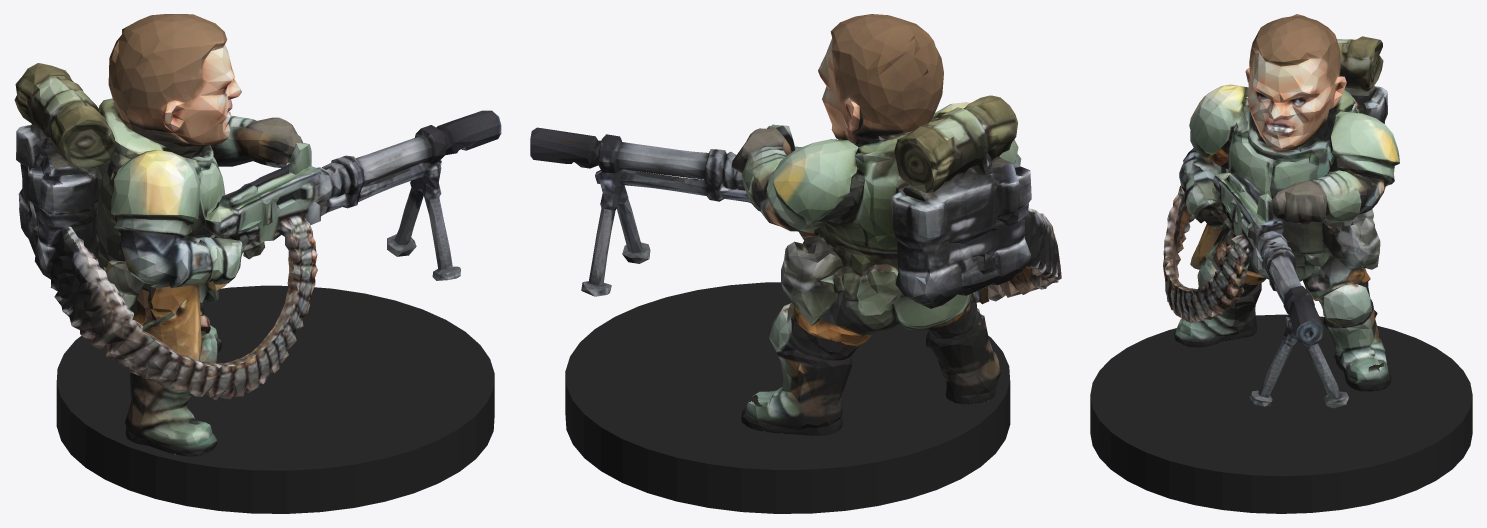
The model's file is ss-heavy-gunner-heavy-bolter.glb.
The picture shows the model from 3 angles, left to right: view 1: azimuth 30°, elevation 25°; view 2: azimuth 150°, elevation 25°; view 3: azimuth 270°, elevation 25°; orthographic projection. The views are drawn at different scales.
Parts seen in each view (by area): view 1: figure, base; view 2: figure, base; view 3: figure, base.
Boxes of the visible parts, x1,y1,x2,y2 form: figure: [14, 14, 501, 456]; base: [56, 285, 494, 513]; figure: [530, 14, 1061, 435]; base: [565, 282, 1010, 513]; figure: [1163, 14, 1399, 408]; base: [1090, 314, 1472, 513].
Bounding box in the file's own units: 1.37 × 1.17 × 1.1.
2 materials, 1 textured.
